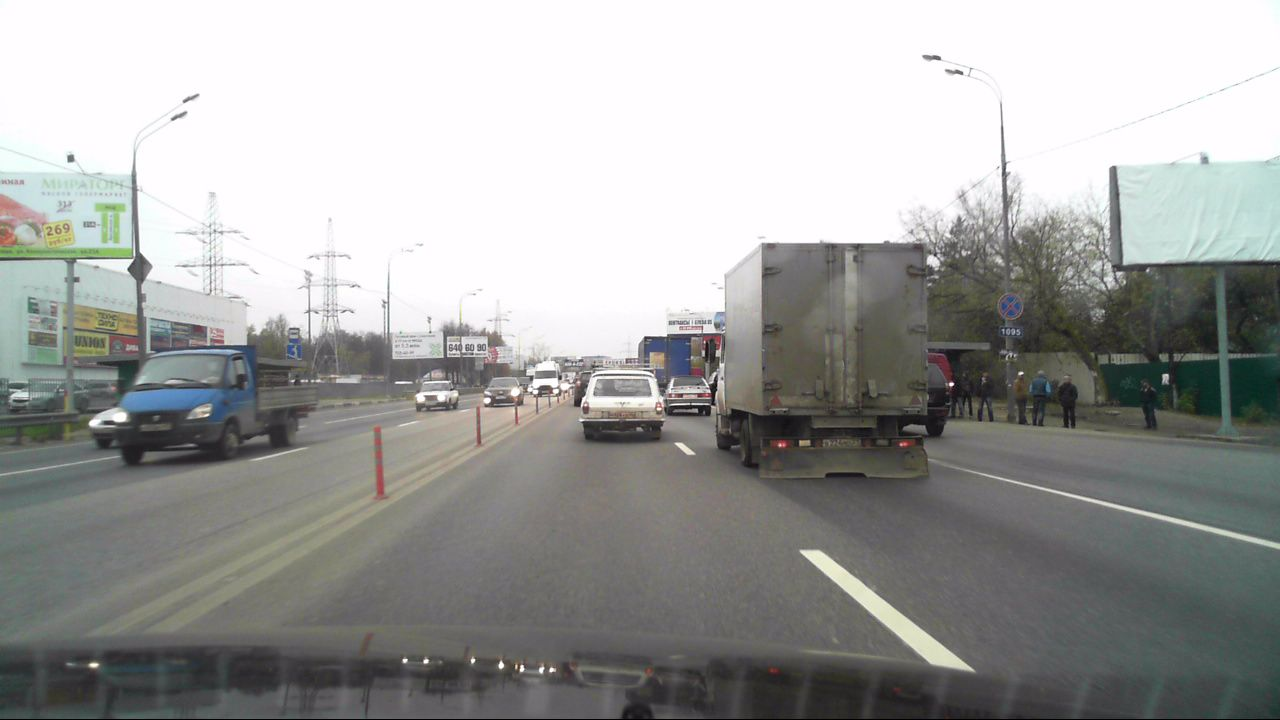No Parking: (997, 292, 1026, 321)
